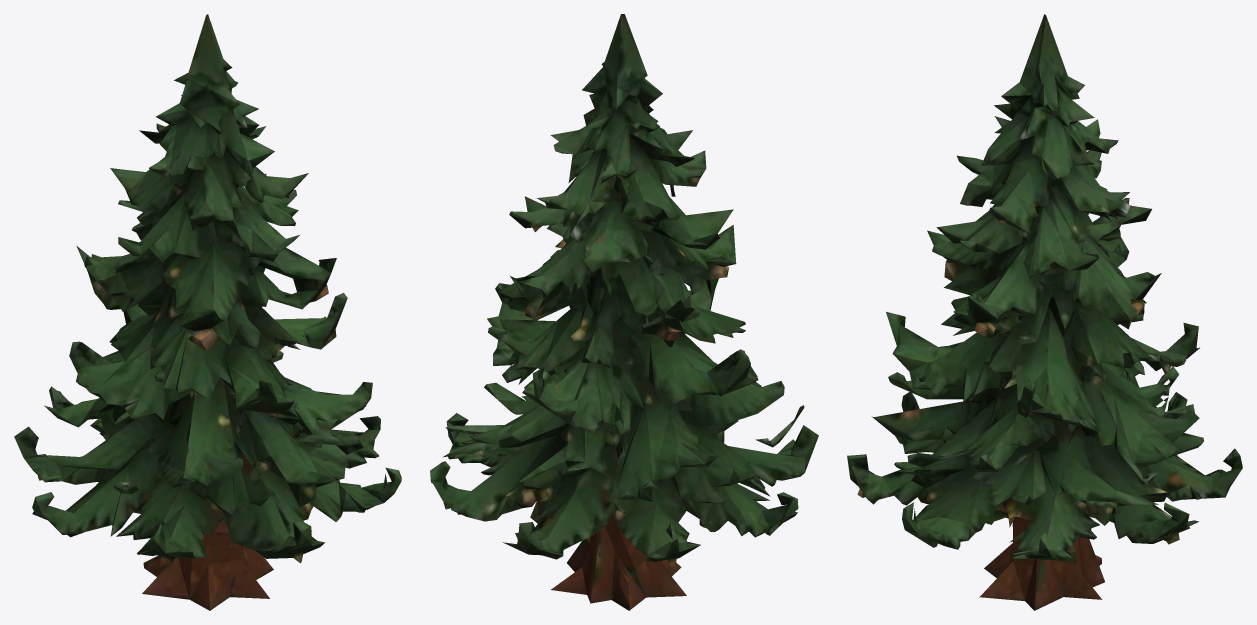
File: pine.glb
The picture shows the model from 3 angles, left to right: view 1: azimuth 30°, elevation 25°; view 2: azimuth 150°, elevation 25°; view 3: azimuth 270°, elevation 25°; orthographic projection.
Parts seen in each view (by area): view 1: geometry_0; view 2: geometry_0; view 3: geometry_0.
Part boxes in pixels (x1,y1,x2,y2): geometry_0: (14,14,401,610); geometry_0: (430,14,818,610); geometry_0: (847,14,1242,610).
Size of the model in its own units: 0.6404 by 0.995 by 0.6276.
Materials: 1 (1 with a texture image).
